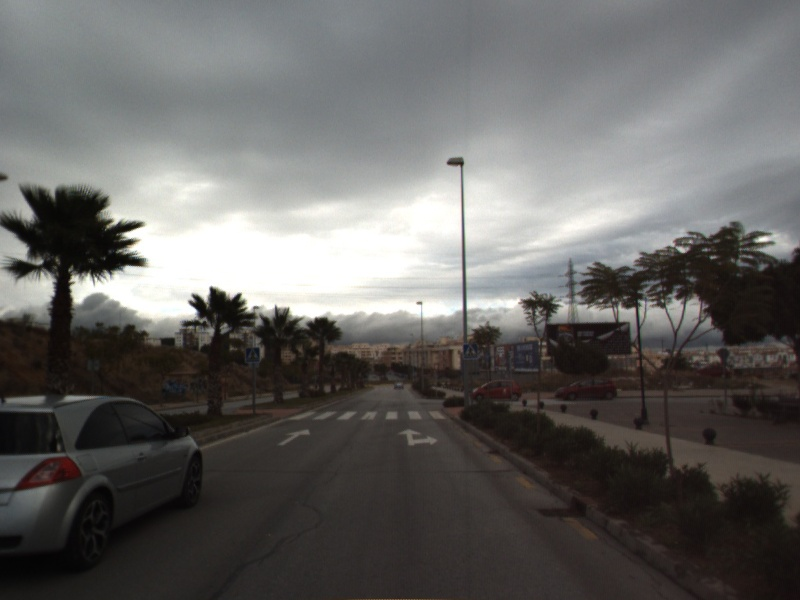STRAIGHT: (276, 427, 312, 447)
STRAIGHT_RIGHT: (395, 426, 439, 447)
